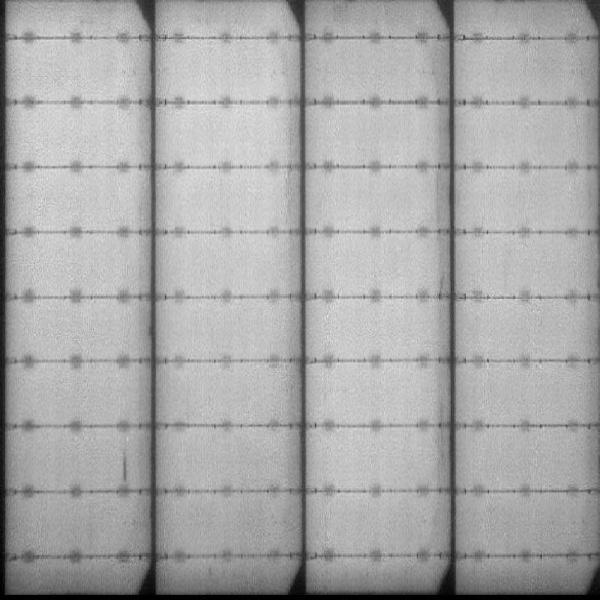scratch: (118, 449, 131, 483)
